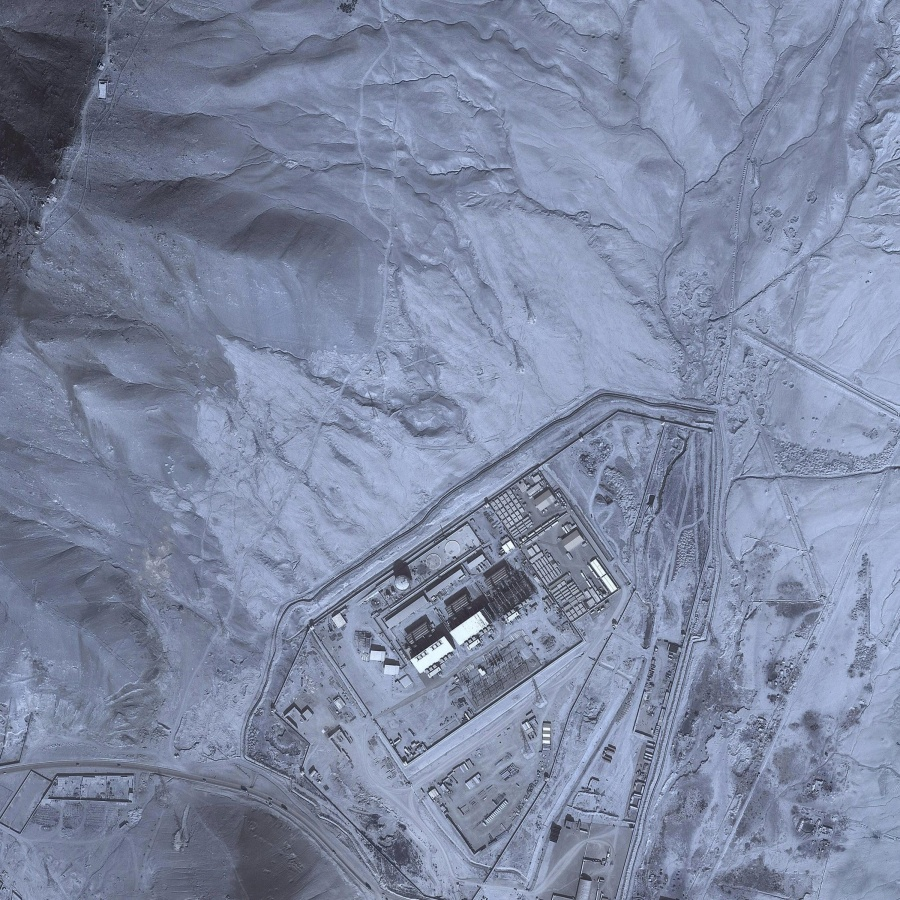PowerPlant: (368, 493, 617, 677)
